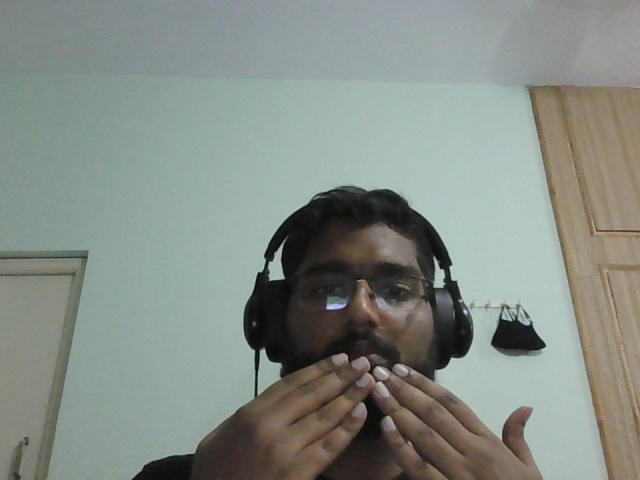Thank You: (174, 350, 574, 480)
